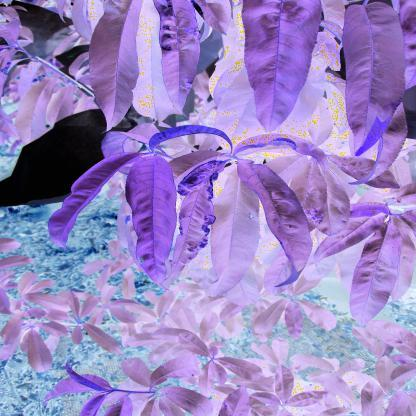Peach leaf: (40, 146, 148, 251), (238, 3, 324, 129), (338, 7, 406, 154), (121, 152, 174, 291), (90, 1, 144, 134), (353, 223, 402, 330), (12, 78, 60, 146), (296, 296, 341, 334), (81, 324, 130, 357), (162, 386, 212, 416), (24, 328, 54, 376), (121, 352, 154, 394), (219, 354, 267, 382), (23, 290, 76, 314), (252, 297, 288, 332), (176, 330, 215, 360), (350, 326, 387, 356), (376, 354, 400, 396), (283, 300, 306, 341), (360, 381, 386, 416), (273, 364, 293, 399)
